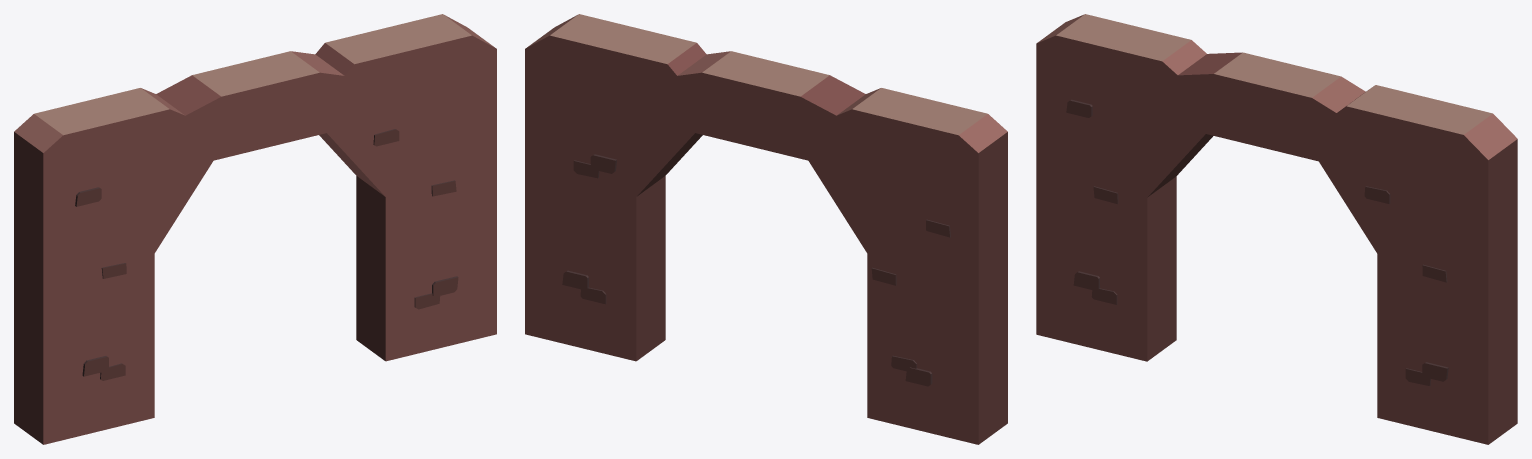
Rendered from TB_D_Bd_Gate_Plain_A_Red.FBX.
3 renders of one model, left to right at view 1: azimuth 30°, elevation 25°; view 2: azimuth 150°, elevation 25°; view 3: azimuth 330°, elevation 25°, orthographic.
Parts seen in each view (by area): view 1: TB_D_Bd_Gate_Plain_A_Red; view 2: TB_D_Bd_Gate_Plain_A_Red; view 3: TB_D_Bd_Gate_Plain_A_Red.
Part boxes in pixels (<box>): TB_D_Bd_Gate_Plain_A_Red: <box>14,14,496,444</box>; TB_D_Bd_Gate_Plain_A_Red: <box>525,14,1007,444</box>; TB_D_Bd_Gate_Plain_A_Red: <box>1036,14,1517,444</box>.
Size of the model in its own units: 6.23 by 4 by 0.7691.
